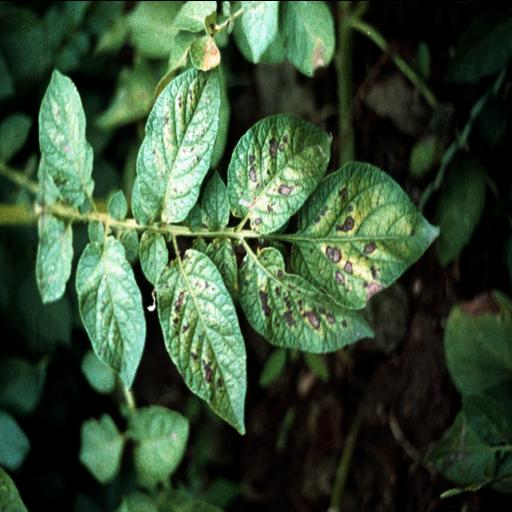Early Blight: (288, 158, 440, 310), (152, 246, 250, 434), (236, 244, 376, 354), (224, 115, 334, 232)
